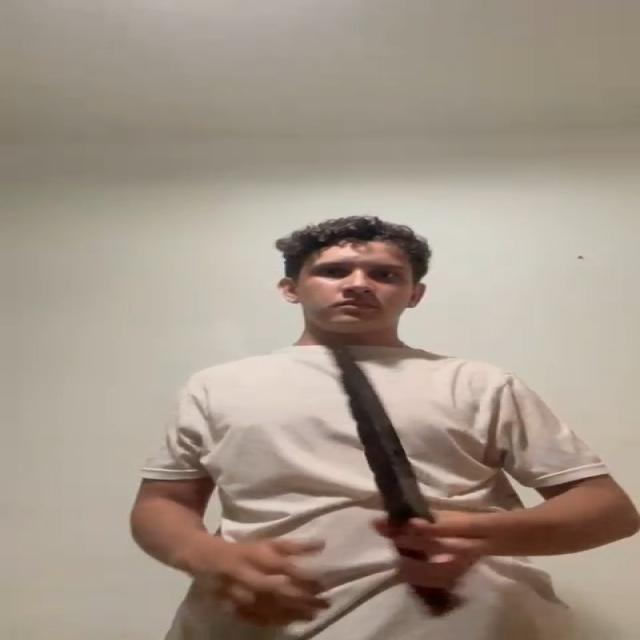knife: (338, 356, 430, 524)
